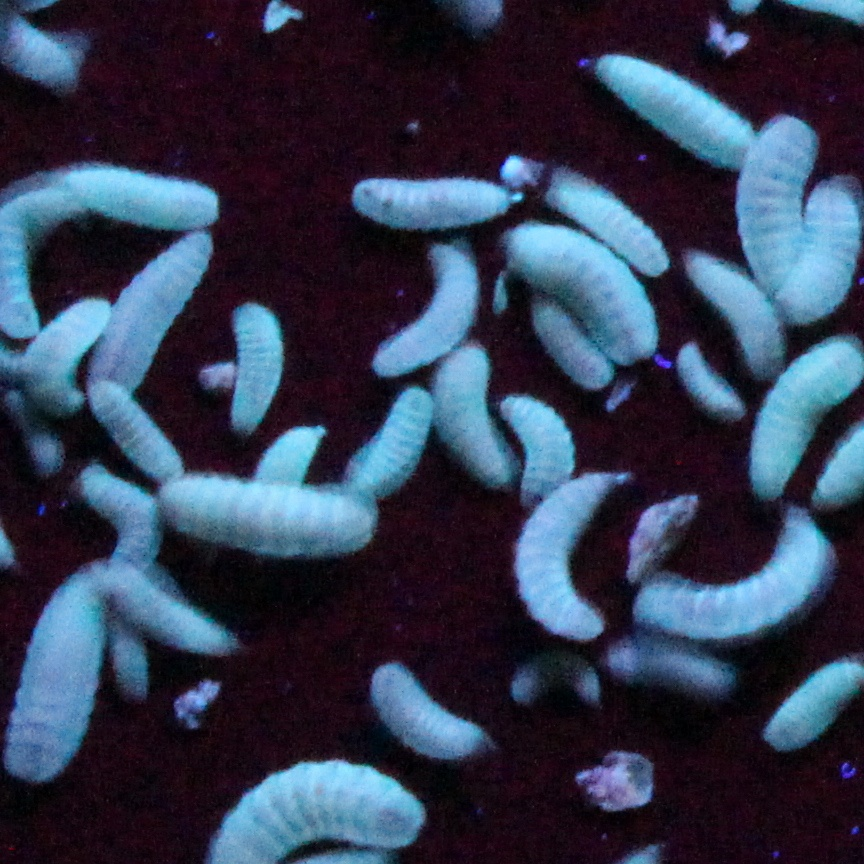larve: (587, 34, 747, 169), (624, 532, 821, 632), (7, 569, 98, 769), (733, 346, 861, 486), (104, 237, 218, 392), (513, 472, 613, 640), (527, 237, 664, 352), (538, 166, 670, 272), (170, 483, 387, 546), (373, 243, 481, 369), (95, 557, 238, 646), (373, 672, 504, 754), (24, 297, 110, 420), (747, 117, 801, 292), (787, 183, 858, 312), (490, 394, 573, 497), (353, 177, 513, 226), (101, 392, 184, 480), (224, 309, 284, 429), (64, 177, 216, 223), (364, 392, 438, 486), (530, 309, 615, 386), (673, 337, 738, 414)
